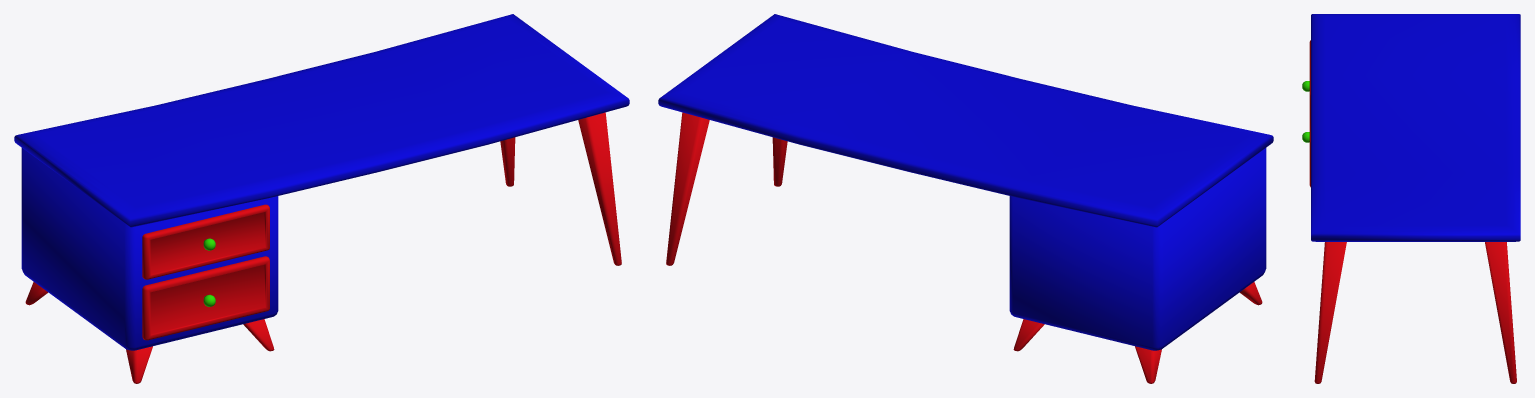
Rendered from WoodenDesk.fbx.
3 renders of one model, left to right at view 1: azimuth 30°, elevation 25°; view 2: azimuth 150°, elevation 25°; view 3: azimuth 270°, elevation 25°, orthographic. The views are drawn at different scales.
Visible parts, largest first — view 1: Roundcube; view 2: Roundcube; view 3: Roundcube.
Boxes of the visible parts, box(x1,y1,x2,y2) form: Roundcube: box(14, 14, 629, 383); Roundcube: box(658, 14, 1273, 383); Roundcube: box(1302, 14, 1520, 383).
Size of the model in its own units: 7.1 by 2.34 by 2.97.
